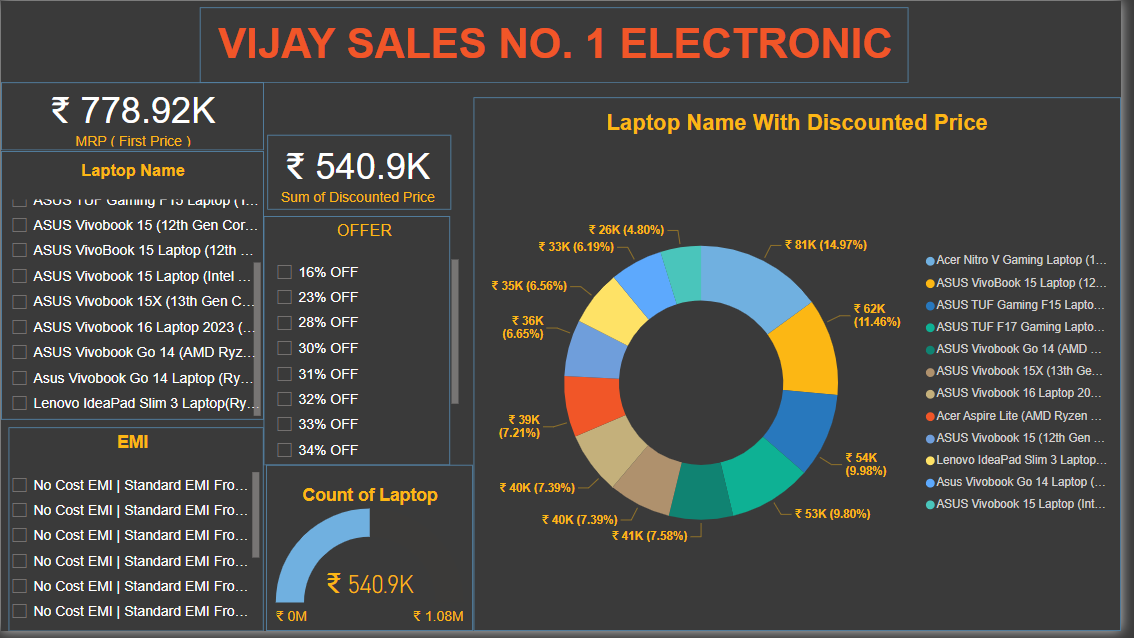

Layout of this report page (visuals, bound fields, positions):
{"tool":"powerbi","page":{"name":"Page 1","canvas":[1280,720],"ordinal":0},"visuals":[{"type":"card","title":"Fi","fields":{"Values":["Sum(Table 1 (2).MRP ( First Price ))"]},"box":[0,93.3,301.9,78.2],"z":0},{"type":"slicer","title":"Laptop Name","fields":{"Values":["Table 1 (2).Laptop Name"]},"box":[0,182.5,301.9,296.4],"z":1000},{"type":"slicer","title":"EMI","fields":{"Values":["Table 1 (2).EMI"]},"box":[0,492.6,300.5,227.8],"z":2000},{"type":"textbox","box":[0,0,1280.3,93.3],"z":3000},{"type":"card","fields":{"Values":["Sum(Table 1 (2).Discounted Price)"]},"box":[303.3,152.3,209.9,86.4],"z":4000},{"type":"slicer","title":"OFFER","fields":{"Values":["Table 1 (2).OFFER"]},"box":[303.3,251.1,225,278.6],"z":5000},{"type":"gauge","title":"Count of Laptop","fields":{"Y":["Sum(Table 1 (2).Discounted Price)"]},"box":[303.3,553,237.4,167.4],"z":5001},{"type":"donutChart","title":"Laptop Name With Discounted Price","fields":{"Category":["Table 1 (2).Laptop Name"],"Y":["Sum(Table 1 (2).Discounted Price)"]},"box":[540.7,124.9,739.6,595.5],"z":5002}]}

Visuals, with their boxes in screenshot pixels (x1, y1, x2, y2), scaled from the page's 1280x720 canvas onto the 1134x638 screenshot:
"Fi" card: [left=0, top=83, right=267, bottom=152]
"Laptop Name" slicer: [left=0, top=162, right=267, bottom=424]
"EMI" slicer: [left=0, top=436, right=266, bottom=637]
textbox: [left=0, top=0, right=1133, bottom=83]
card - Sum(Table 1 (2).Discounted Price): [left=269, top=135, right=455, bottom=212]
"OFFER" slicer: [left=269, top=223, right=468, bottom=469]
"Count of Laptop" gauge: [left=269, top=490, right=479, bottom=637]
"Laptop Name With Discounted Price" donutChart: [left=479, top=111, right=1133, bottom=637]
